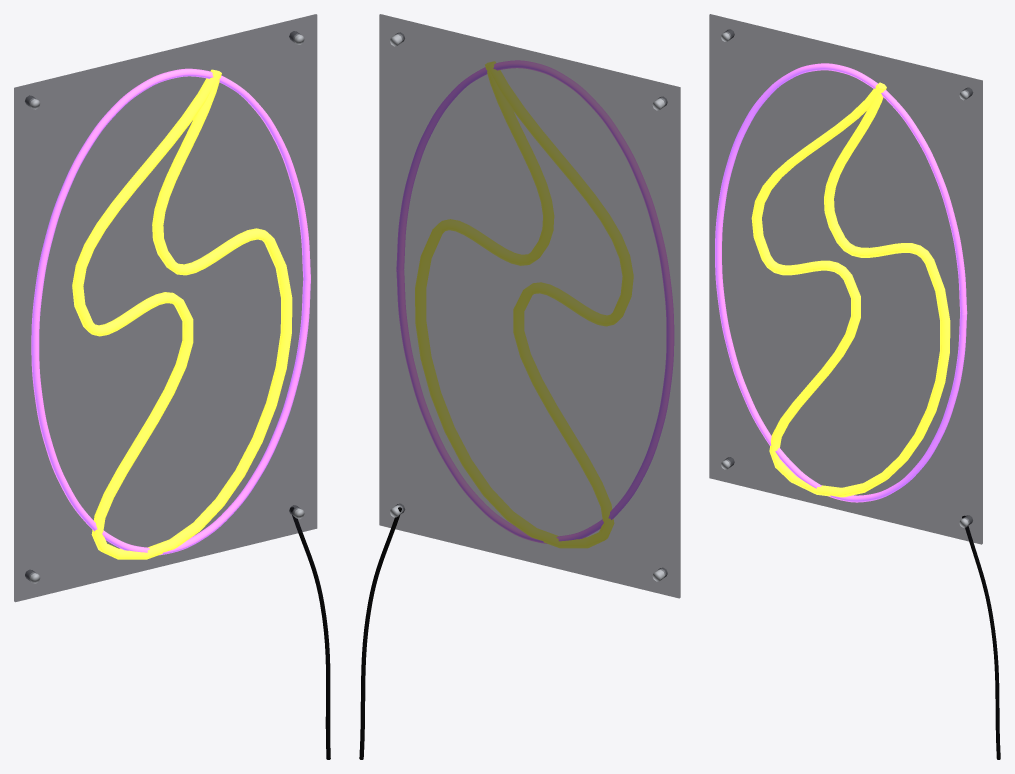
Rendered from klub_neon_piorun.glb.
The picture shows the model from 3 angles, left to right: view 1: azimuth 30°, elevation 25°; view 2: azimuth 150°, elevation 25°; view 3: azimuth 330°, elevation 25°; orthographic projection. The views are drawn at different scales.
Visible parts, largest first — view 1: Plyta, SwiatloZolty, SwiatloFiolet; view 2: Plyta, SwiatloZolty, SwiatloFiolet; view 3: Plyta, SwiatloZolty, SwiatloFiolet.
Boxes of the visible parts, x1,y1,x2,y2 form: Plyta: [14, 14, 330, 759]; SwiatloZolty: [72, 69, 292, 559]; SwiatloFiolet: [31, 68, 310, 555]; Plyta: [359, 14, 680, 759]; SwiatloZolty: [415, 61, 633, 547]; SwiatloFiolet: [396, 60, 673, 543]; Plyta: [709, 14, 1000, 759]; SwiatloZolty: [751, 82, 950, 497]; SwiatloFiolet: [715, 63, 967, 502].
Size of the model in its own units: 0.8443 by 1.9 by 0.058.
